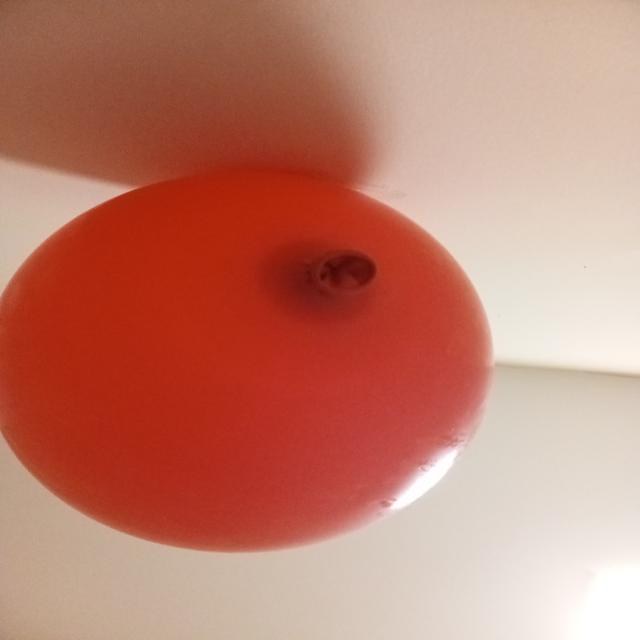balloon: (0, 172, 492, 552)
